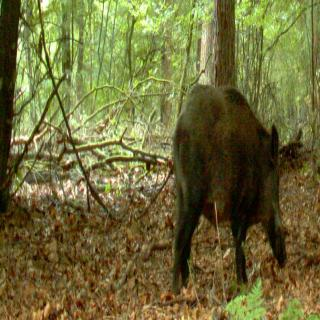Pig: (171, 80, 288, 290)
